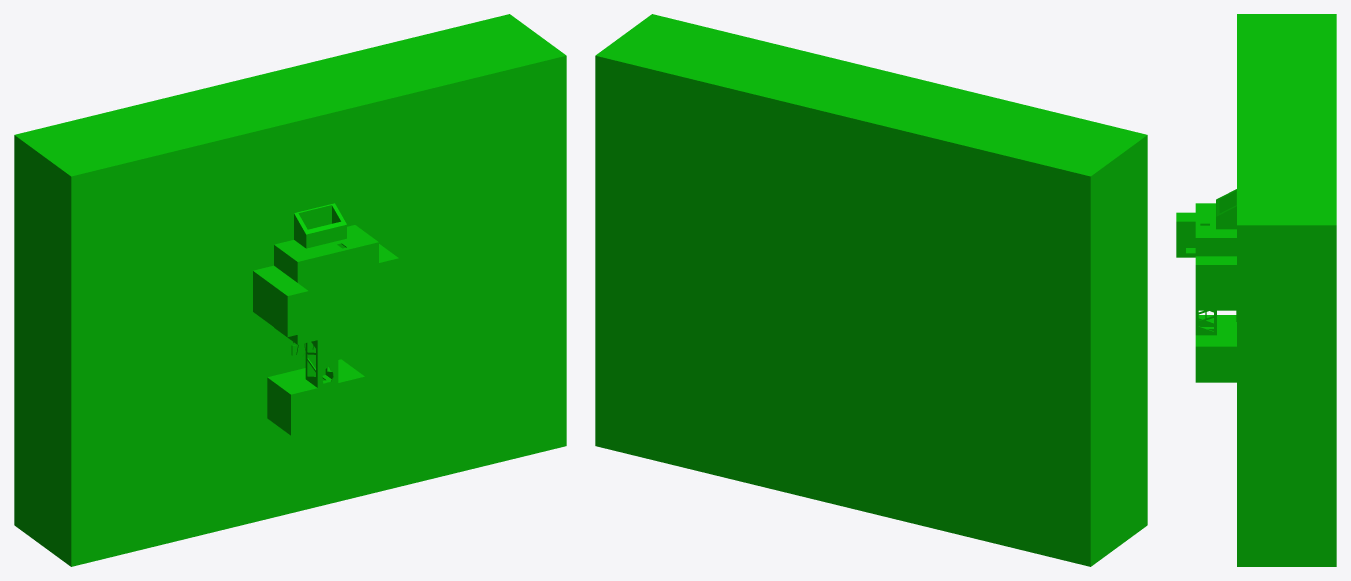
The model's file is debug_0001_dec.obj.
The picture shows the model from 3 angles, left to right: view 1: azimuth 30°, elevation 25°; view 2: azimuth 150°, elevation 25°; view 3: azimuth 270°, elevation 25°; orthographic projection. The views are drawn at different scales.
Visible parts, largest first — view 1: COLLIDE.066_Cube.105; view 2: COLLIDE.066_Cube.105; view 3: COLLIDE.066_Cube.105.
Part boxes in pixels (x1=…): COLLIDE.066_Cube.105: x1=14, y1=14, x2=566, y2=566; COLLIDE.066_Cube.105: x1=595, y1=14, x2=1147, y2=566; COLLIDE.066_Cube.105: x1=1176, y1=14, x2=1336, y2=566.
Size of the model in its own units: 2072 by 1560 by 664.
